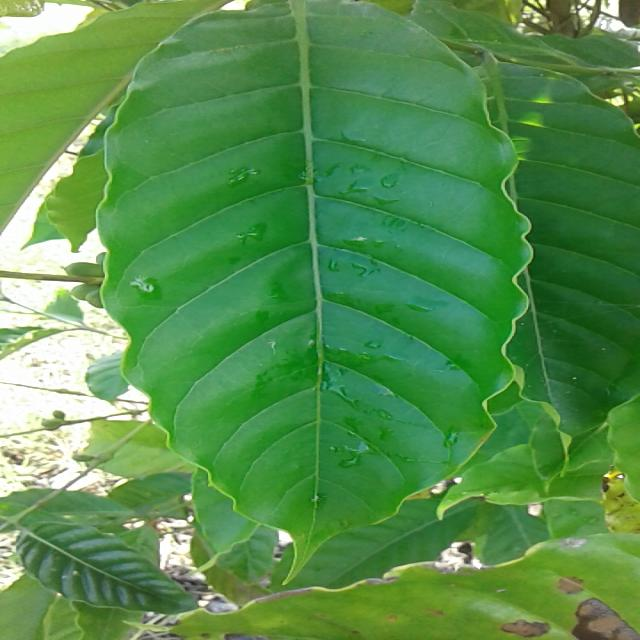Sanas: (95, 0, 541, 576)
